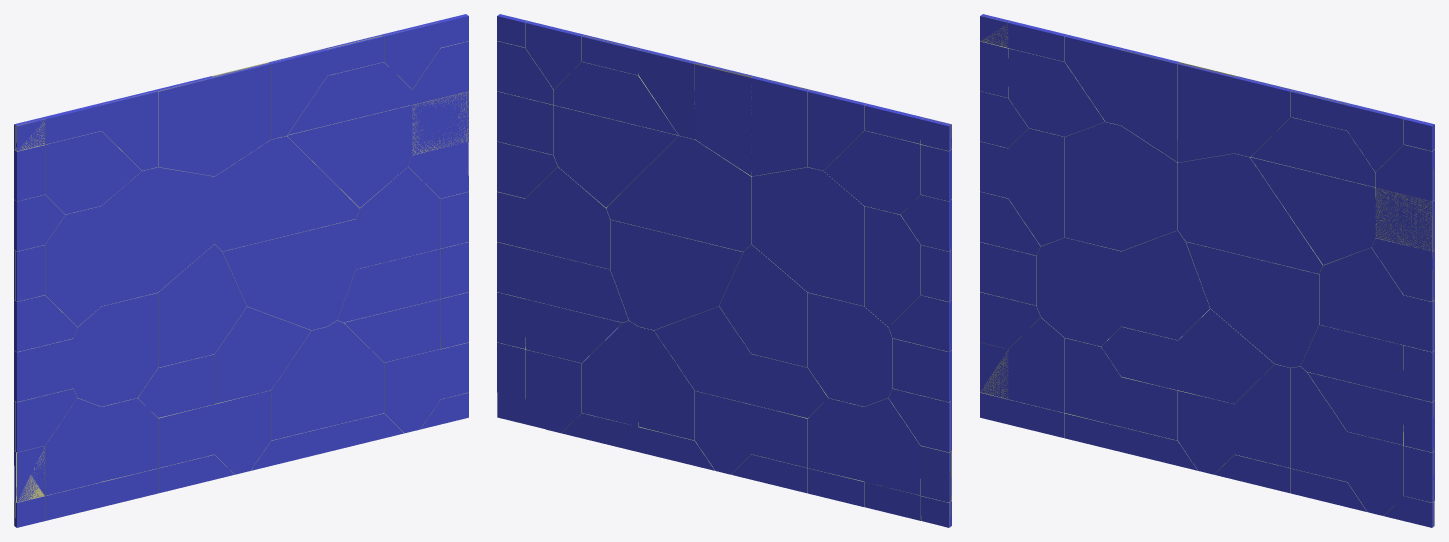
The model's file is glass3.glb.
3 views of the same model, side by side, from view 1: azimuth 30°, elevation 25°; view 2: azimuth 150°, elevation 25°; view 3: azimuth 330°, elevation 25° (orthographic).
Parts seen in each view (by area): view 1: Cube_cell.027, Cube_cell.088, Cube_cell.058, Cube_cell.037, Cube_cell.066, Cube_cell.031, Cube_cell.097, Cube_cell.051, Cube_cell.057, Cube_cell.002, Cube_cell.040, Cube_cell.009 (+39 smaller); view 2: Cube_cell.027, Cube_cell.088, Cube_cell.058, Cube_cell.037, Cube_cell.081, Cube_cell.031, Cube_cell.097, Cube_cell.051, Cube_cell.057, Cube_cell.043, Cube_cell.042, Cube_cell.050 (+39 smaller); view 3: Cube_cell.027, Cube_cell.088, Cube_cell.058, Cube_cell.037, Cube_cell.066, Cube_cell.031, Cube_cell.097, Cube_cell.051, Cube_cell.057, Cube_cell.002, Cube_cell.040, Cube_cell.009 (+39 smaller).
Part boxes in pixels (<box>): Cube_cell.027: <box>101,167,214,306</box>; Cube_cell.088: <box>214,136,359,251</box>; Cube_cell.058: <box>222,219,355,330</box>; Cube_cell.037: <box>73,292,157,406</box>; Cube_cell.066: <box>287,105,412,207</box>; Cube_cell.031: <box>158,244,246,367</box>; Cube_cell.097: <box>356,167,440,269</box>; Cube_cell.051: <box>214,306,311,403</box>; Cube_cell.057: <box>45,131,141,214</box>; Cube_cell.002: <box>45,206,101,326</box>; Cube_cell.040: <box>214,63,270,175</box>; Cube_cell.009: <box>158,78,214,176</box>; Cube_cell.027: <box>751,167,864,306</box>; Cube_cell.088: <box>606,136,751,251</box>; Cube_cell.058: <box>610,219,743,330</box>; Cube_cell.037: <box>808,292,892,406</box>; Cube_cell.081: <box>553,105,678,207</box>; Cube_cell.031: <box>719,244,807,367</box>; Cube_cell.097: <box>525,167,610,269</box>; Cube_cell.051: <box>654,306,751,404</box>; Cube_cell.057: <box>824,130,920,214</box>; Cube_cell.043: <box>864,206,920,326</box>; Cube_cell.042: <box>751,77,809,176</box>; Cube_cell.050: <box>695,64,751,175</box>; Cube_cell.027: <box>1065,122,1177,250</box>; Cube_cell.088: <box>1178,153,1323,273</box>; Cube_cell.058: <box>1186,241,1319,367</box>; Cube_cell.037: <box>1036,237,1121,346</box>; Cube_cell.066: <box>1250,157,1375,264</box>; Cube_cell.031: <box>1121,230,1210,340</box>; Cube_cell.097: <box>1319,247,1403,344</box>; Cube_cell.051: <box>1178,309,1274,403</box>; Cube_cell.057: <box>1008,48,1105,136</box>; Cube_cell.002: <box>1008,128,1064,245</box>; Cube_cell.040: <box>1178,64,1235,162</box>; Cube_cell.009: <box>1121,50,1177,162</box>.
Size of the model in its own units: 4.37 by 3.71 by 0.0471.
